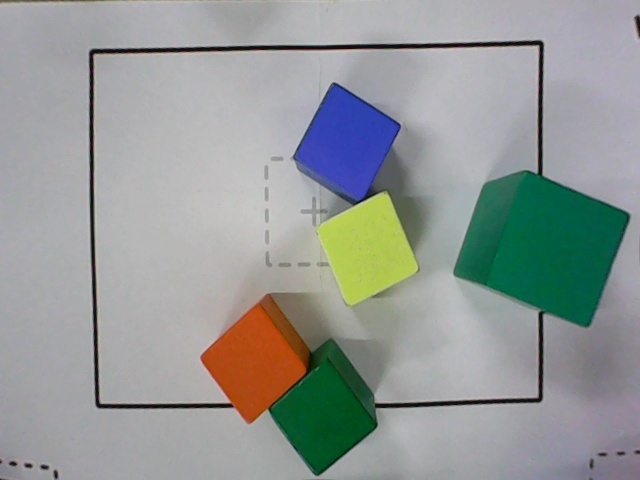upside of big cube: (485, 171, 631, 330)
upside of small cube: (200, 303, 307, 426), (292, 83, 402, 202), (268, 360, 376, 475), (314, 190, 420, 307)
